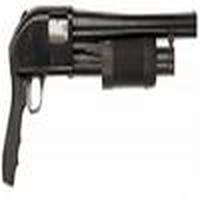gun: (5, 7, 196, 187)
